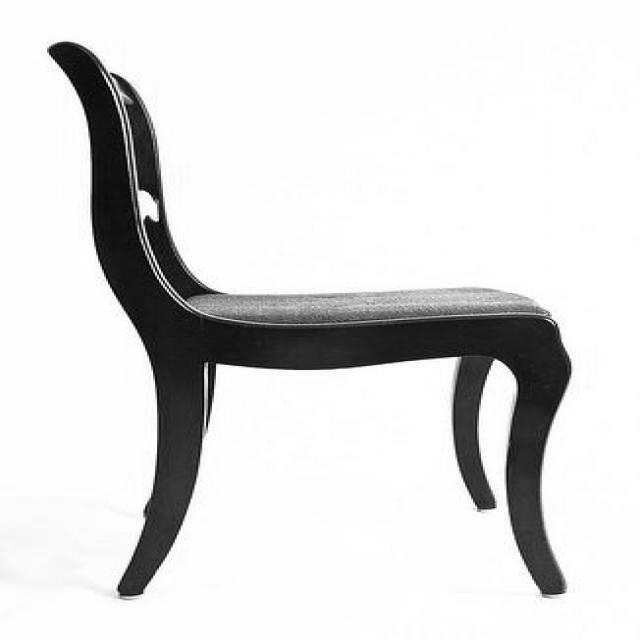chair: (51, 39, 576, 598)
